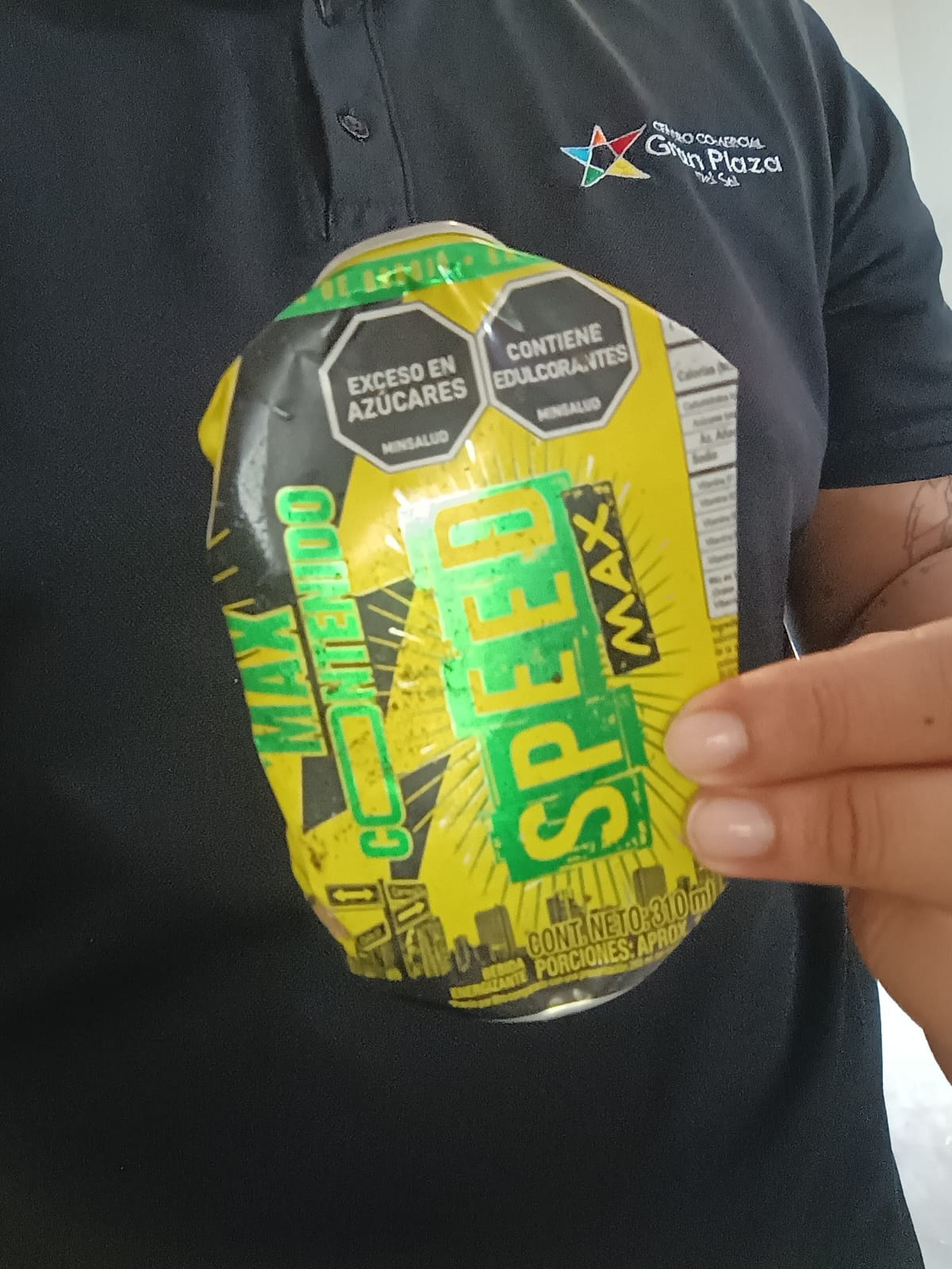Metal: (198, 223, 742, 1028)
